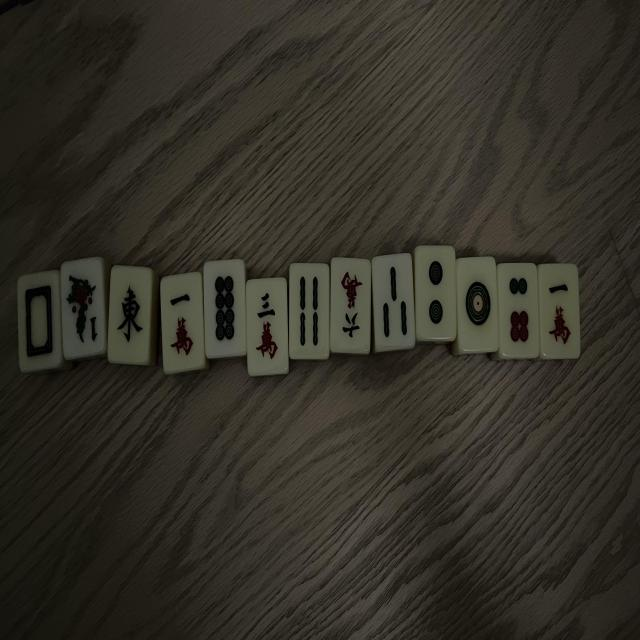bai: (18, 271, 64, 373)
east: (109, 266, 153, 366)
f1: (59, 256, 106, 359)
m1: (162, 275, 206, 374), (538, 265, 578, 357)
m3: (247, 278, 289, 376)
m6: (331, 257, 372, 353)
s3: (372, 254, 414, 350)
s4: (290, 265, 330, 361)
t1: (458, 257, 499, 351)
t2: (413, 245, 456, 341)
t6: (498, 264, 540, 358)
t8: (203, 261, 246, 360)
